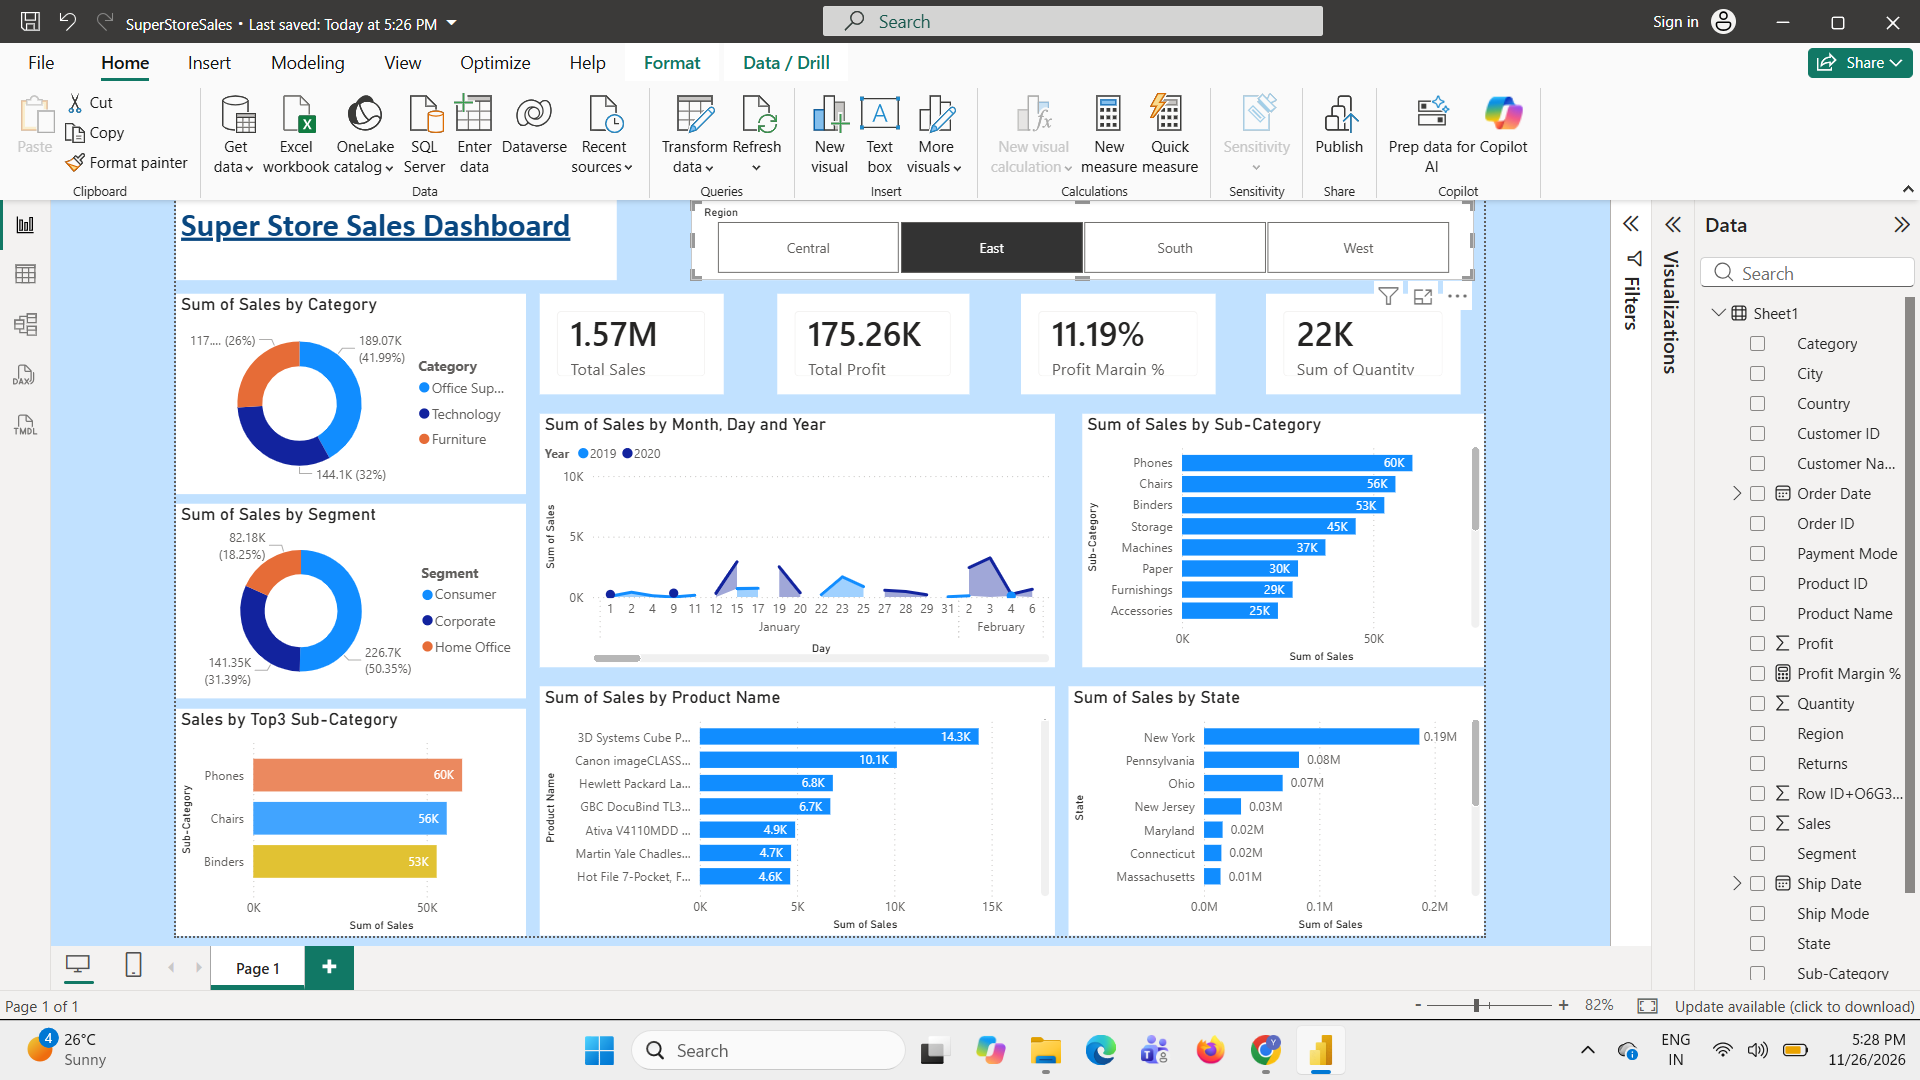

The dashboard page shown, as its layout file describes it:
{"tool":"powerbi","page":{"name":"Page 1","canvas":[1280,720],"ordinal":0},"visuals":[{"type":"barChart","fields":{"Y":["Sum(SuperStore_Sales_Dataset.Sales)"],"Category":["SuperStore_Sales_Dataset.Sub-Category"]},"box":[886.5,208.6,393.8,248.4],"z":0},{"type":"barChart","title":"Sales by Top3 Sub-Category","fields":{"Y":["Sum(SuperStore_Sales_Dataset.Sales)"],"Category":["SuperStore_Sales_Dataset.Sub-Category"]},"box":[0,497.5,342,223.1],"z":1000},{"type":"stackedAreaChart","fields":{"Y":["Sum(SuperStore_Sales_Dataset.Sales)"],"Series":["SuperStore_Sales_Dataset.Order Date.Variation.Date Hierarchy.Year"],"Category":["SuperStore_Sales_Dataset.Order Date.Variation.Date Hierarchy.Month","SuperStore_Sales_Dataset.Order Date.Variation.Date Hierarchy.Day"]},"box":[355.4,208.6,503.6,248.4],"z":2000},{"type":"donutChart","fields":{"Category":["SuperStore_Sales_Dataset.Segment"],"Y":["Sum(SuperStore_Sales_Dataset.Sales)"]},"box":[0,297.4,342,190.6],"z":3000},{"type":"slicer","fields":{"Values":["SuperStore_Sales_Dataset.Region"]},"box":[503.6,0,765.7,78.2],"z":4000},{"type":"textbox","box":[0,0,430.9,78.2],"z":5000},{"type":"barChart","fields":{"Y":["Sum(SuperStore_Sales_Dataset.Sales)"],"Category":["SuperStore_Sales_Dataset.State"]},"box":[872.7,476.2,407.5,244.3],"z":6000},{"type":"donutChart","fields":{"Y":["Sum(SuperStore_Sales_Dataset.Sales)"],"Category":["SuperStore_Sales_Dataset.Category"]},"box":[0,91.9,342,196],"z":7000},{"type":"barChart","fields":{"Y":["Sum(SuperStore_Sales_Dataset.Sales)"],"Category":["SuperStore_Sales_Dataset.Product Name"]},"box":[355.4,476.2,503.6,244.3],"z":8000},{"type":"cardVisual","fields":{"Data":["Sheet1.Total Sales"]},"box":[355.6,91.9,179.8,98.7],"z":9000},{"type":"cardVisual","fields":{"Data":["Sheet1.Total Profit"]},"box":[588.1,91.9,187.9,98.7],"z":10000},{"type":"cardVisual","fields":{"Data":["Sheet1.Profit Margin %"]},"box":[826,91.9,190.6,98.7],"z":11000},{"type":"cardVisual","fields":{"Data":["Sum(Sheet1.Quantity)"]},"box":[1066.7,91.9,190.6,98.7],"z":11001}]}

Visuals, with their boxes on the page's 1280x720 design canvas (x1, y1, x2, y2). These are canvas units, not pixel positions in the 1920x1080 screenshot, which may show the page scaled, cropped or inside an application window:
barChart - Sum(SuperStore_Sales_Dataset.Sales) x SuperStore_Sales_Dataset.Sub-Category: box=[886, 209, 1280, 457]
"Sales by Top3 Sub-Category" barChart: box=[0, 498, 342, 721]
stackedAreaChart - Sum(SuperStore_Sales_Dataset.Sales) x SuperStore_Sales_Dataset.Order Date.Variation.Date Hierarchy.Year: box=[355, 209, 859, 457]
donutChart - SuperStore_Sales_Dataset.Segment x Sum(SuperStore_Sales_Dataset.Sales): box=[0, 297, 342, 488]
slicer - SuperStore_Sales_Dataset.Region: box=[504, 0, 1269, 78]
textbox: box=[0, 0, 431, 78]
barChart - Sum(SuperStore_Sales_Dataset.Sales) x SuperStore_Sales_Dataset.State: box=[873, 476, 1280, 720]
donutChart - Sum(SuperStore_Sales_Dataset.Sales) x SuperStore_Sales_Dataset.Category: box=[0, 92, 342, 288]
barChart - Sum(SuperStore_Sales_Dataset.Sales) x SuperStore_Sales_Dataset.Product Name: box=[355, 476, 859, 720]
cardVisual - Sheet1.Total Sales: box=[356, 92, 535, 191]
cardVisual - Sheet1.Total Profit: box=[588, 92, 776, 191]
cardVisual - Sheet1.Profit Margin %: box=[826, 92, 1017, 191]
cardVisual - Sum(Sheet1.Quantity): box=[1067, 92, 1257, 191]
